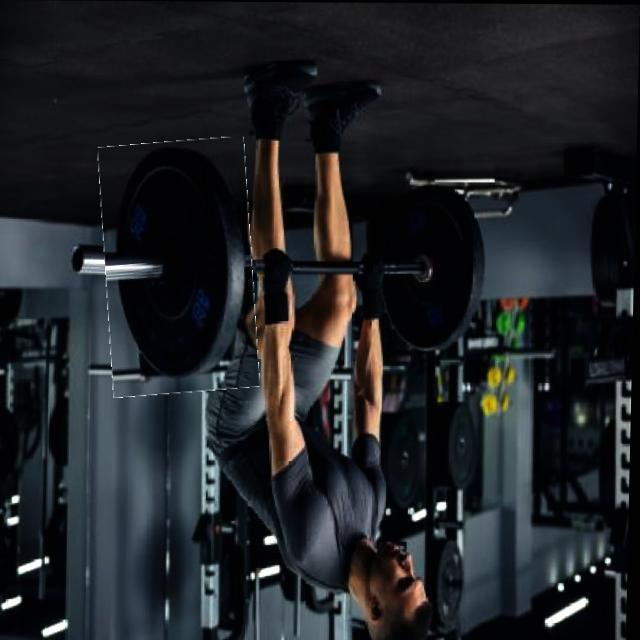barbell: (100, 139, 261, 396)
